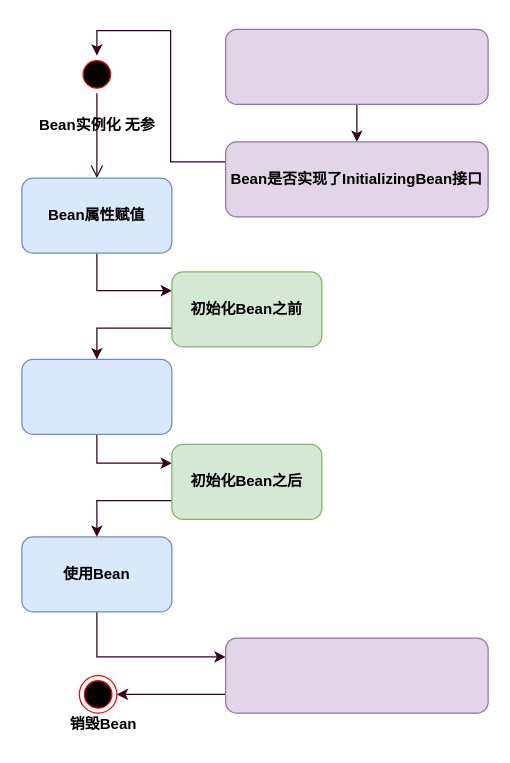
Image size: 510x763. Some labels were removed from this diagram. Here are the shapes that lost their labels. From the top down, the centre of each, then its label:
At point 356,66: "Bean是否实现了Aware相关接口".
At point 96,396: "初始化Bean".
At point 356,675: "是否实现DisposableBean接口".
